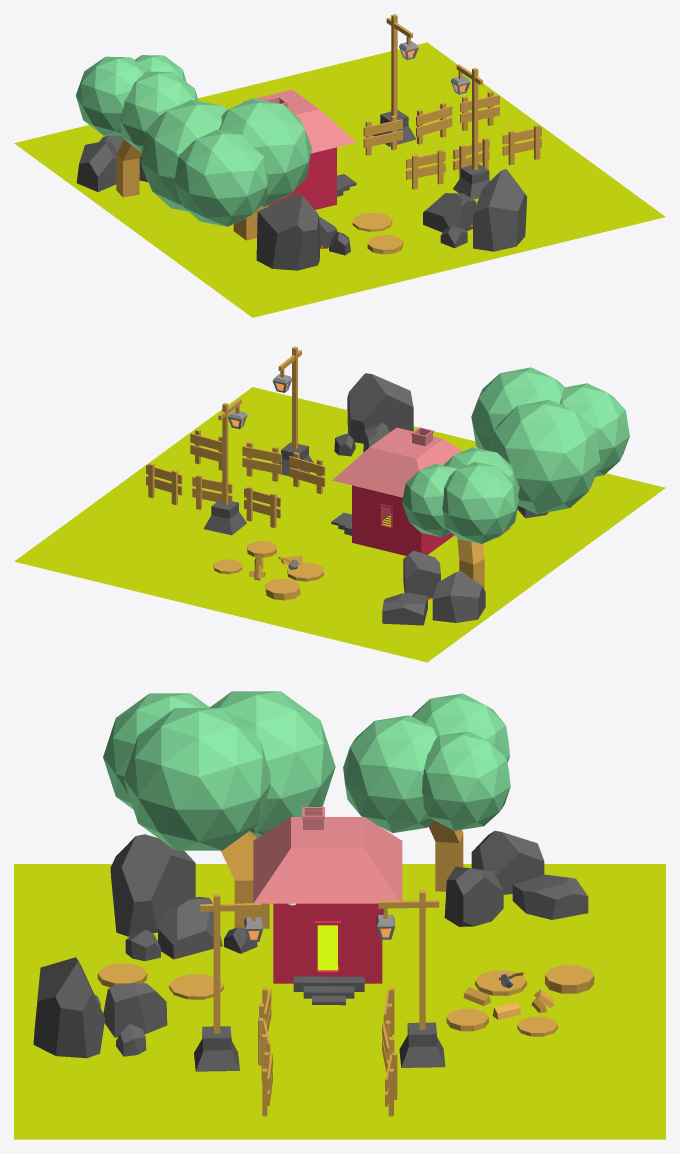
Rendered from house1.glb.
The picture shows the model from 3 angles, top to bottom: view 1: azimuth 30°, elevation 25°; view 2: azimuth 150°, elevation 25°; view 3: azimuth 270°, elevation 25°; orthographic projection. The views are drawn at different scales.
Visible parts, largest first — view 1: Plane, Icosphere, Icosphere.001, Cube.066, Cube.011, Cube, Plane.002, Cube.056, Cube.010, Cube.002, Cube.047, Cube.045 (+12 smaller); view 2: Plane, Icosphere, Icosphere.001, Cube, Plane.002, Cube.011, Cube.056, Cube.052, Cube.055, Cube.004, Cube.046, Cube.002 (+10 smaller); view 3: Plane, Icosphere, Icosphere.001, Cube, Plane.002, Cube.066, Cube.011, Cube.052, Cube.056, Cube.051, Cube.055, Cube.010 (+17 smaller).
Boxes of the visible parts, <box> form: Plane: <box>14,42,665,317</box>; Icosphere: <box>140,98,311,226</box>; Icosphere.001: <box>76,55,198,152</box>; Cube.066: <box>256,194,320,270</box>; Cube.011: <box>473,169,527,251</box>; Cube: <box>243,89,356,153</box>; Plane.002: <box>268,147,336,209</box>; Cube.056: <box>76,141,117,191</box>; Cube.010: <box>423,193,476,232</box>; Cube.002: <box>116,139,141,197</box>; Cube.047: <box>502,125,541,165</box>; Cube.045: <box>406,149,445,189</box>; Plane: <box>14,387,665,662</box>; Icosphere: <box>471,367,629,514</box>; Icosphere.001: <box>402,447,519,543</box>; Cube: <box>332,427,462,497</box>; Plane.002: <box>352,485,454,555</box>; Cube.011: <box>347,373,413,443</box>; Cube.056: <box>432,571,485,622</box>; Cube.052: <box>403,550,440,598</box>; Cube.055: <box>382,593,427,625</box>; Cube.004: <box>203,498,246,535</box>; Cube.046: <box>242,441,281,481</box>; Cube.002: <box>457,538,484,589</box>; Plane: <box>14,864,665,1139</box>; Icosphere: <box>103,691,335,850</box>; Icosphere.001: <box>343,693,510,833</box>; Cube: <box>253,807,402,903</box>; Plane.002: <box>273,903,383,983</box>; Cube.066: <box>110,834,195,936</box>; Cube.011: <box>33,957,104,1058</box>; Cube.052: <box>444,866,503,926</box>; Cube.056: <box>471,830,544,894</box>; Cube.051: <box>157,897,222,959</box>; Cube.055: <box>512,874,588,919</box>; Cube.010: <box>103,983,167,1037</box>.
Size of the model in its own units: 4.14 by 1.43 by 4.
